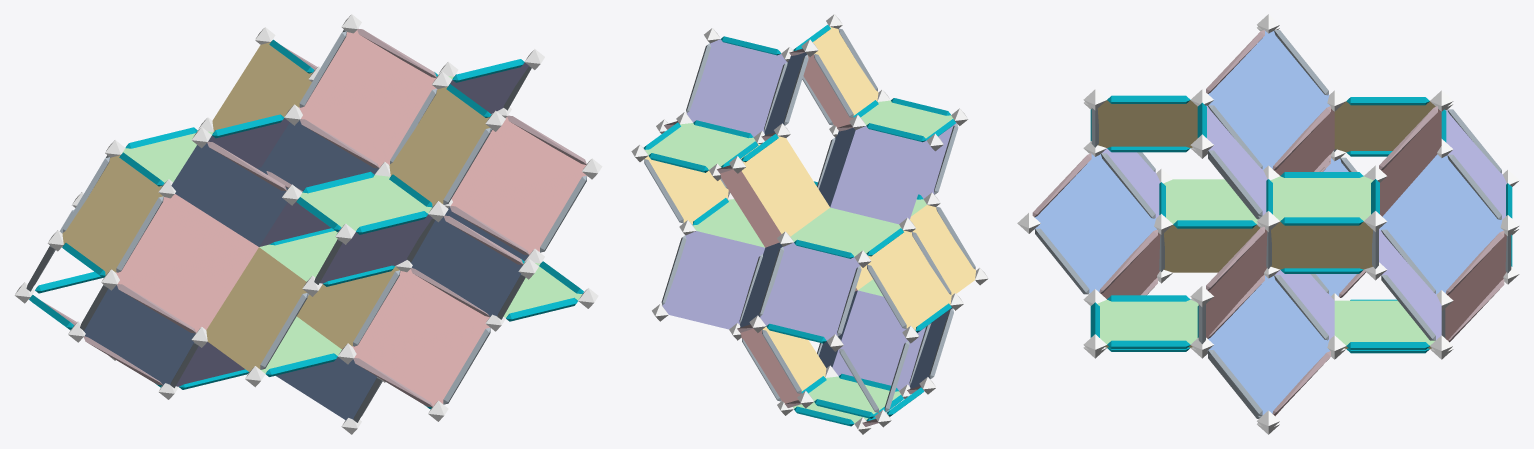
File: icosahedron1.glb
3 views of the same model, side by side, from view 1: azimuth 30°, elevation 25°; view 2: azimuth 150°, elevation 25°; view 3: azimuth 270°, elevation 25° (orthographic). The views are drawn at different scales.
Visible parts, largest first — view 1: shape39-material, shape35-material, shape9-material, shape4-material, shape24-material, shape31-material, shape15-material, shape32-material, shape44-material, shape41-material, shape8-material (×8), shape33-material (+15 smaller); view 2: shape26-material, shape11-material, shape23-material, shape21-material, shape3-material (×13), shape12-material, shape33-material, shape32-material, shape16-material, shape0-material (×7), shape46-material, shape24-material (+15 smaller); view 3: shape28-material, shape44-material, shape34-material, shape5-material, shape0-material (×10), shape3-material (×8), shape7-material, shape8-material (×8), shape15-material, shape46-material, shape6-material, shape33-material (+14 smaller).
Boxes of the visible parts, x1,y1,x2,y2 form: shape39-material: [116, 194, 258, 332]; shape35-material: [352, 269, 490, 406]; shape9-material: [299, 30, 437, 167]; shape4-material: [451, 117, 587, 254]; shape24-material: [206, 247, 307, 371]; shape31-material: [171, 143, 287, 246]; shape15-material: [389, 86, 490, 206]; shape32-material: [62, 155, 163, 274]; shape44-material: [410, 217, 522, 316]; shape41-material: [83, 285, 195, 384]; shape8-material (×8): [117, 28, 586, 407]; shape33-material: [212, 42, 312, 131]; shape26-material: [830, 126, 932, 224]; shape11-material: [662, 231, 764, 329]; shape23-material: [760, 242, 859, 340]; shape21-material: [687, 39, 786, 137]; shape3-material (×13): [644, 43, 958, 412]; shape12-material: [832, 290, 925, 390]; shape33-material: [742, 136, 829, 236]; shape32-material: [868, 230, 951, 330]; shape16-material: [790, 207, 901, 256]; shape0-material (×7): [648, 36, 926, 426]; shape46-material: [645, 123, 755, 169]; shape24-material: [910, 205, 975, 295]; shape28-material: [1379, 154, 1503, 294]; shape44-material: [1034, 153, 1156, 292]; shape34-material: [1208, 31, 1329, 169]; shape5-material: [1208, 275, 1329, 414]; shape0-material (×10): [1107, 95, 1429, 349]; shape3-material (×8): [1035, 30, 1501, 415]; shape7-material: [1271, 221, 1372, 269]; shape8-material (×8): [1032, 30, 1504, 415]; shape15-material: [1097, 100, 1197, 147]; shape46-material: [1270, 176, 1373, 220]; shape6-material: [1097, 299, 1198, 344]; shape33-material: [1334, 101, 1435, 149].
Bounding box in the file's own units: 52.07 × 48.12 × 52.07.
